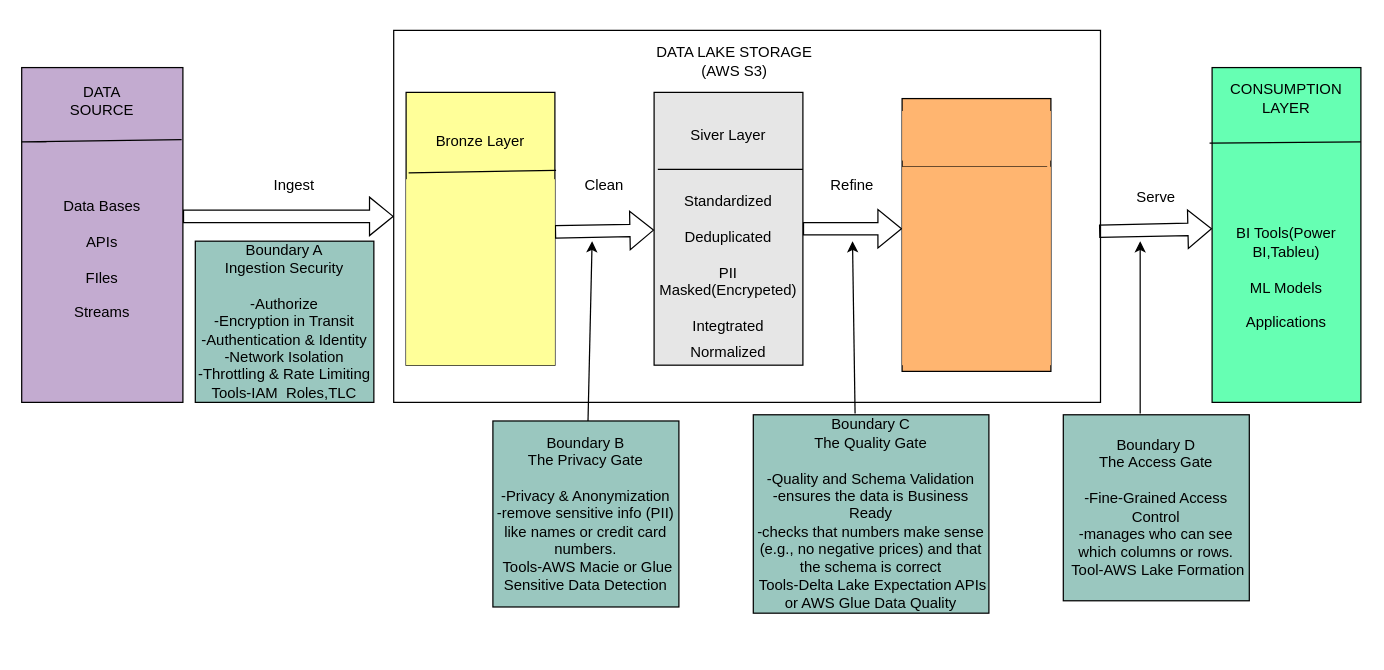
Image size: 1384x670. Some labels were removed from this diagram. The centre of each missing label's shape, as x and y in pixels:
"Business Ready Aggregated Denormalized Star Schema High Performance" goes at [975,265].
"Gold Layer" goes at [975,135].
"Source Truth Immutable Raw Format Full history High Latency" goes at [479,272].
